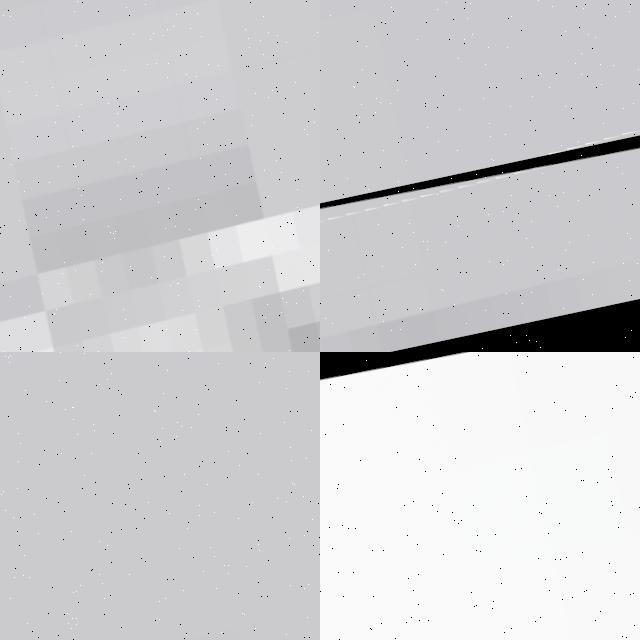drone: (0, 0, 320, 352), (320, 352, 640, 640), (320, 123, 640, 352)
